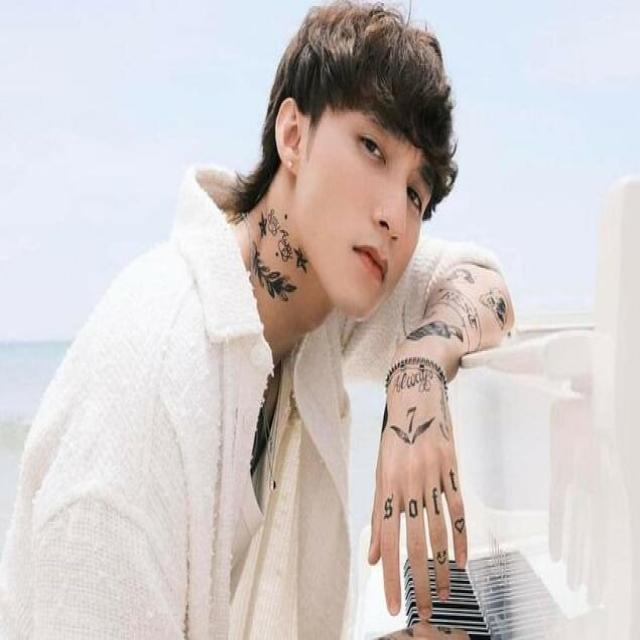Nonhelmet: (222, 2, 462, 354)
